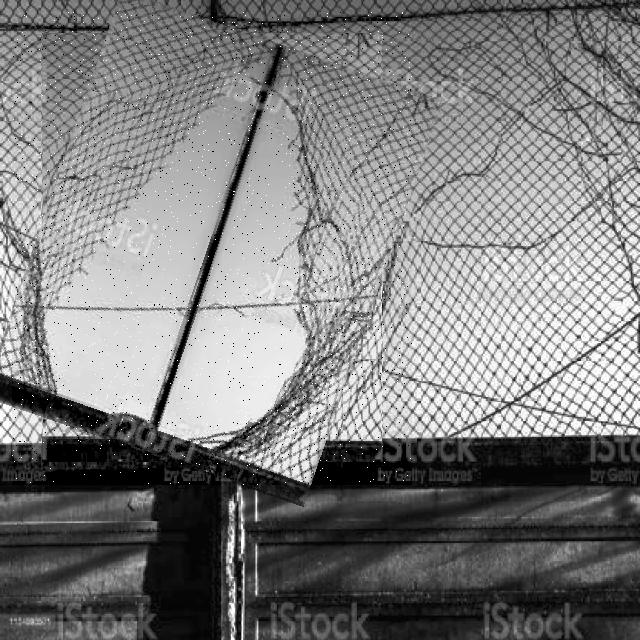anomaly-fence: (12, 12, 412, 485)
